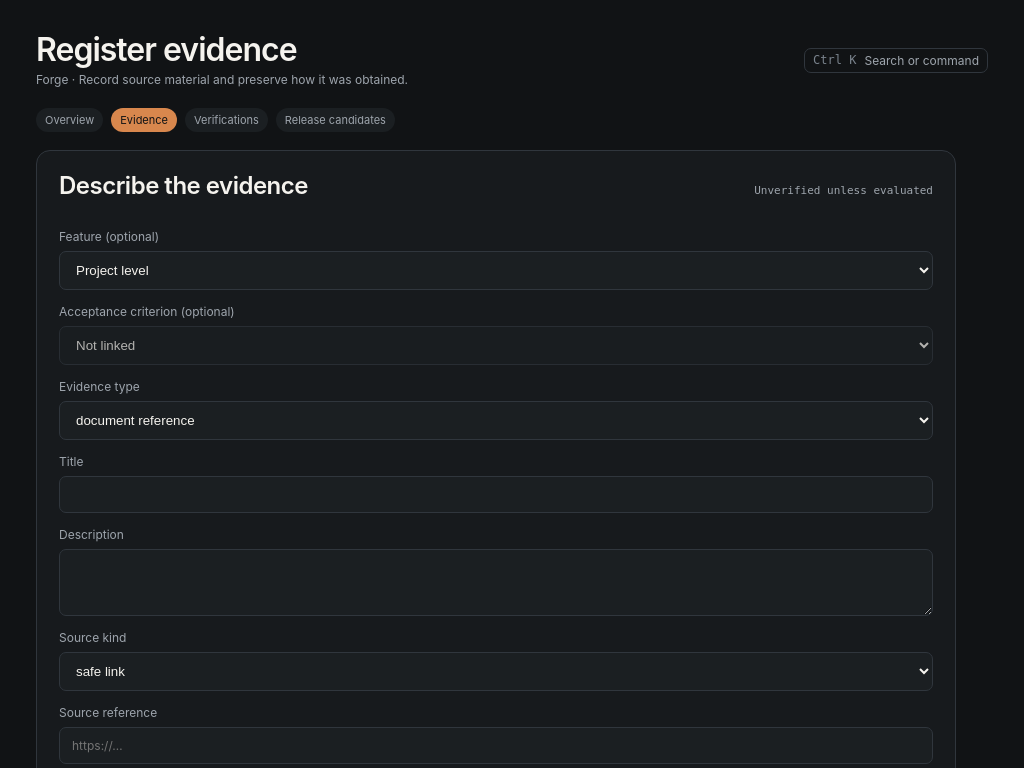
Scenario: Delivery feature routes and provenance › announces an invalid evidence reference and preserves the form for correction
Expected: the heading "Register evidence" is shown, [36,30,296,69]
Type "Release note reference" into the field labelled "Title".
click(496, 494); type("Release note reference")  # box [59,476,933,513]
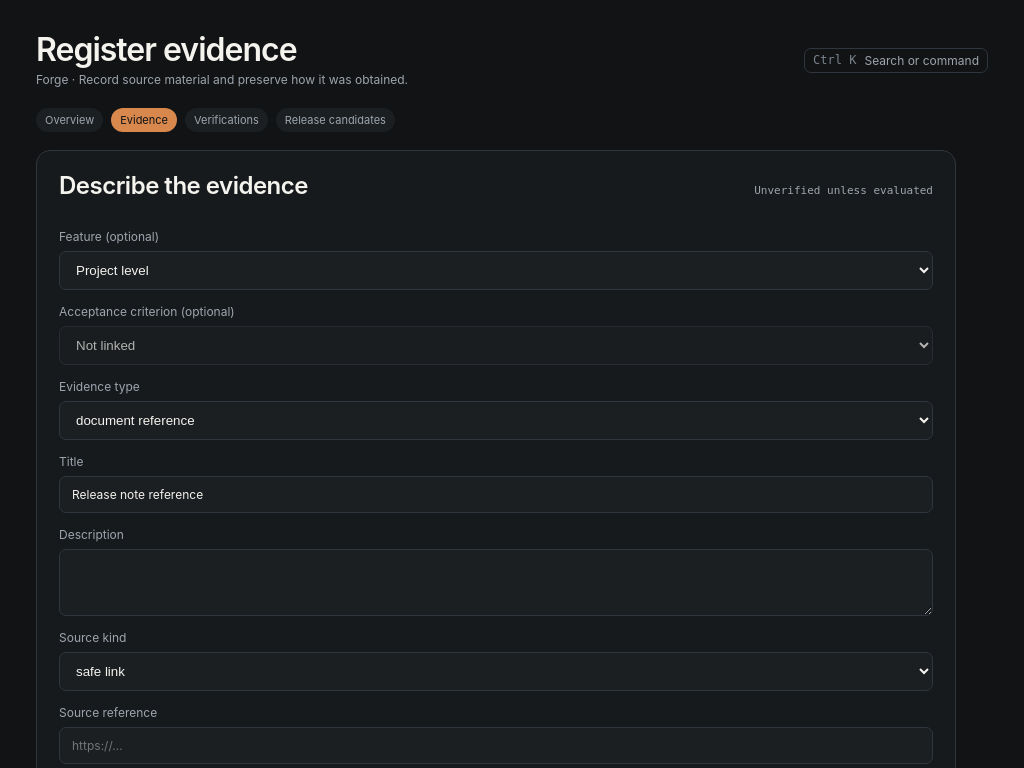
Type "javascript:alert(1)" into the field labelled "Source reference".
click(496, 746); type("javascript:alert(1)")  # box [59,727,933,764]
(page scrolled)
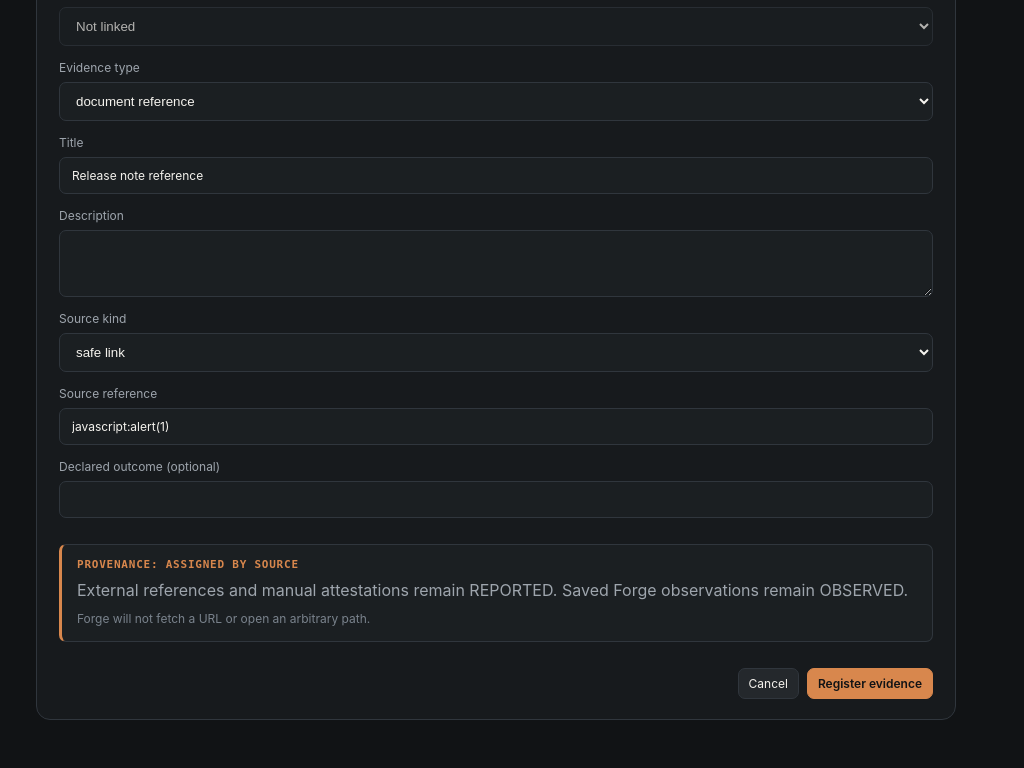
Click the button "Register evidence".
click(870, 684)  # box [807,668,933,699]
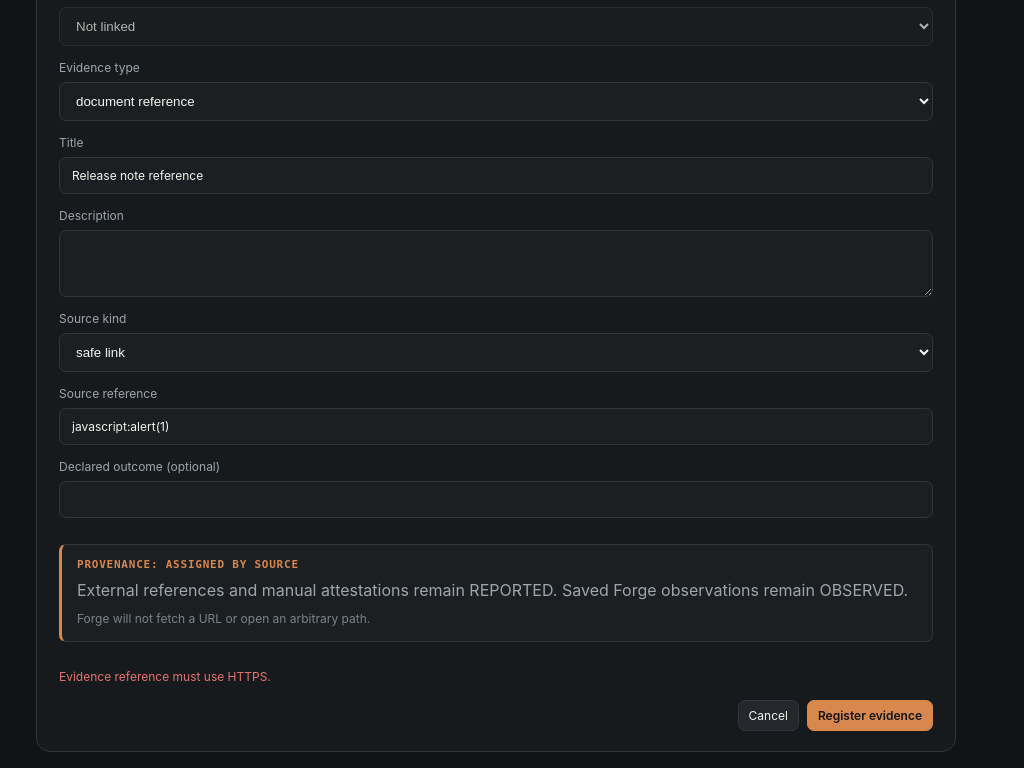
Expected: the message reads "Evidence reference must use HTTPS.", [59,669,271,684]
Replace the text in the field labelled "Source reference" with "https://example.test/release-notes" at {"x": 496, "y": 426}, box [59,408,933,445]
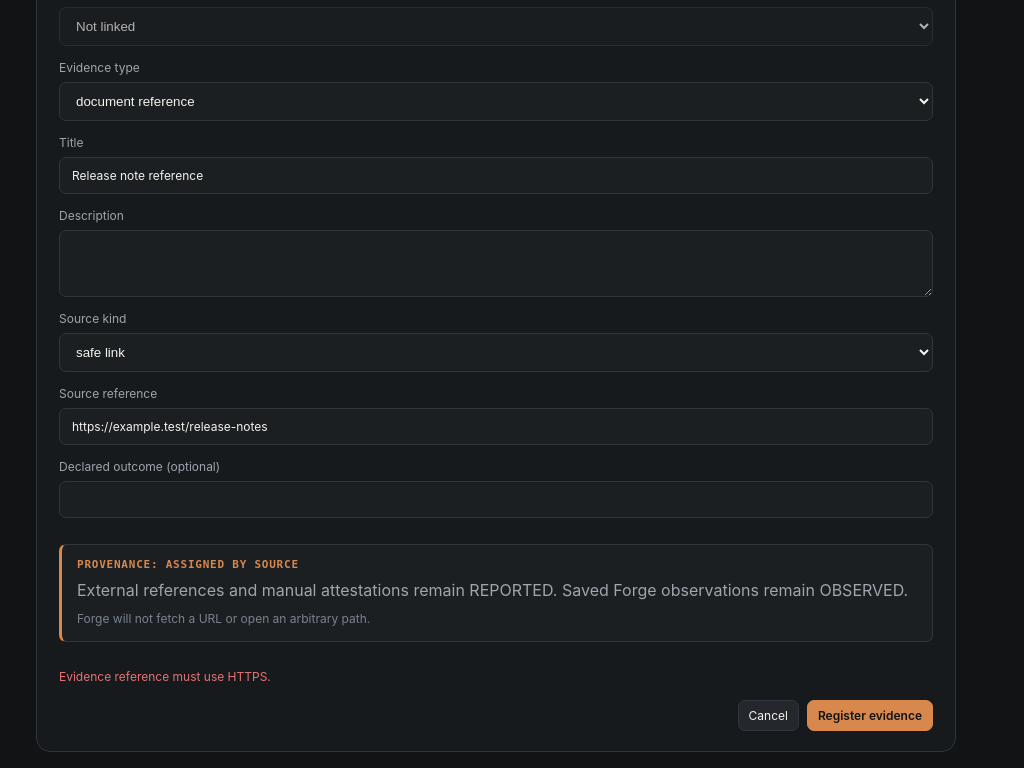
Click the button "Register evidence".
click(870, 716)  # box [807,700,933,731]
(page scrolled)
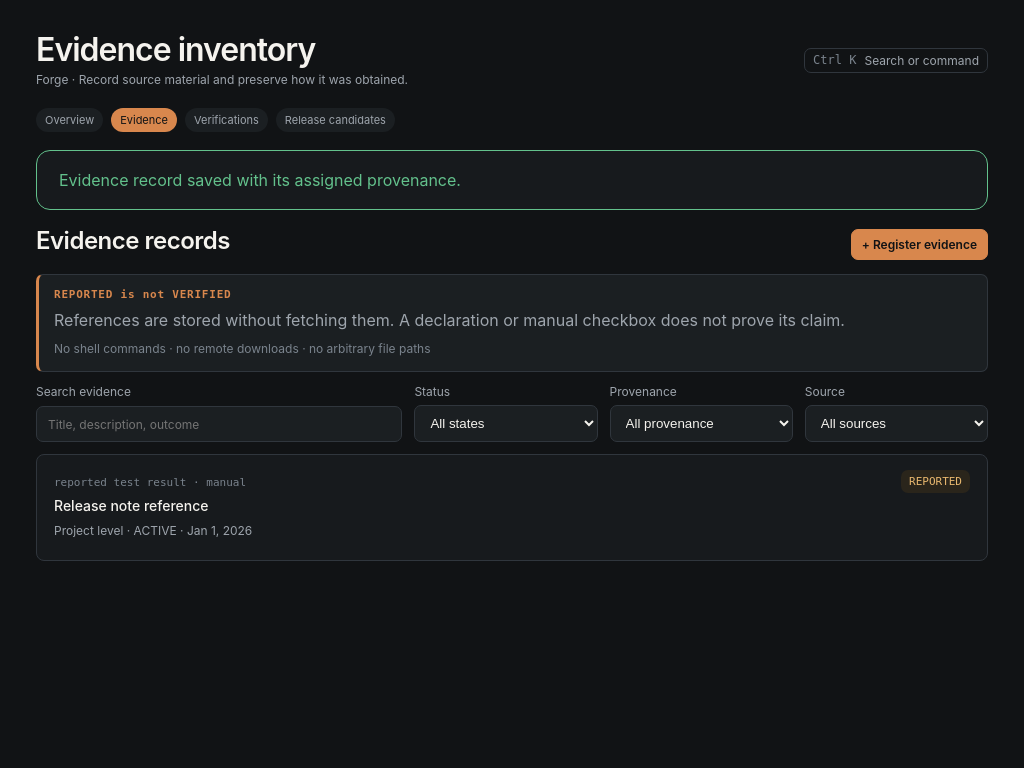
Expected: the heading "Evidence records" is shown, [36,226,230,256]
Expected: the link "Release note reference" is shown, [36,454,988,561]
